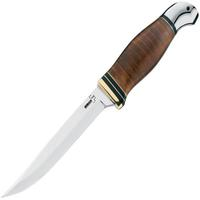knife: (1, 4, 192, 197)
